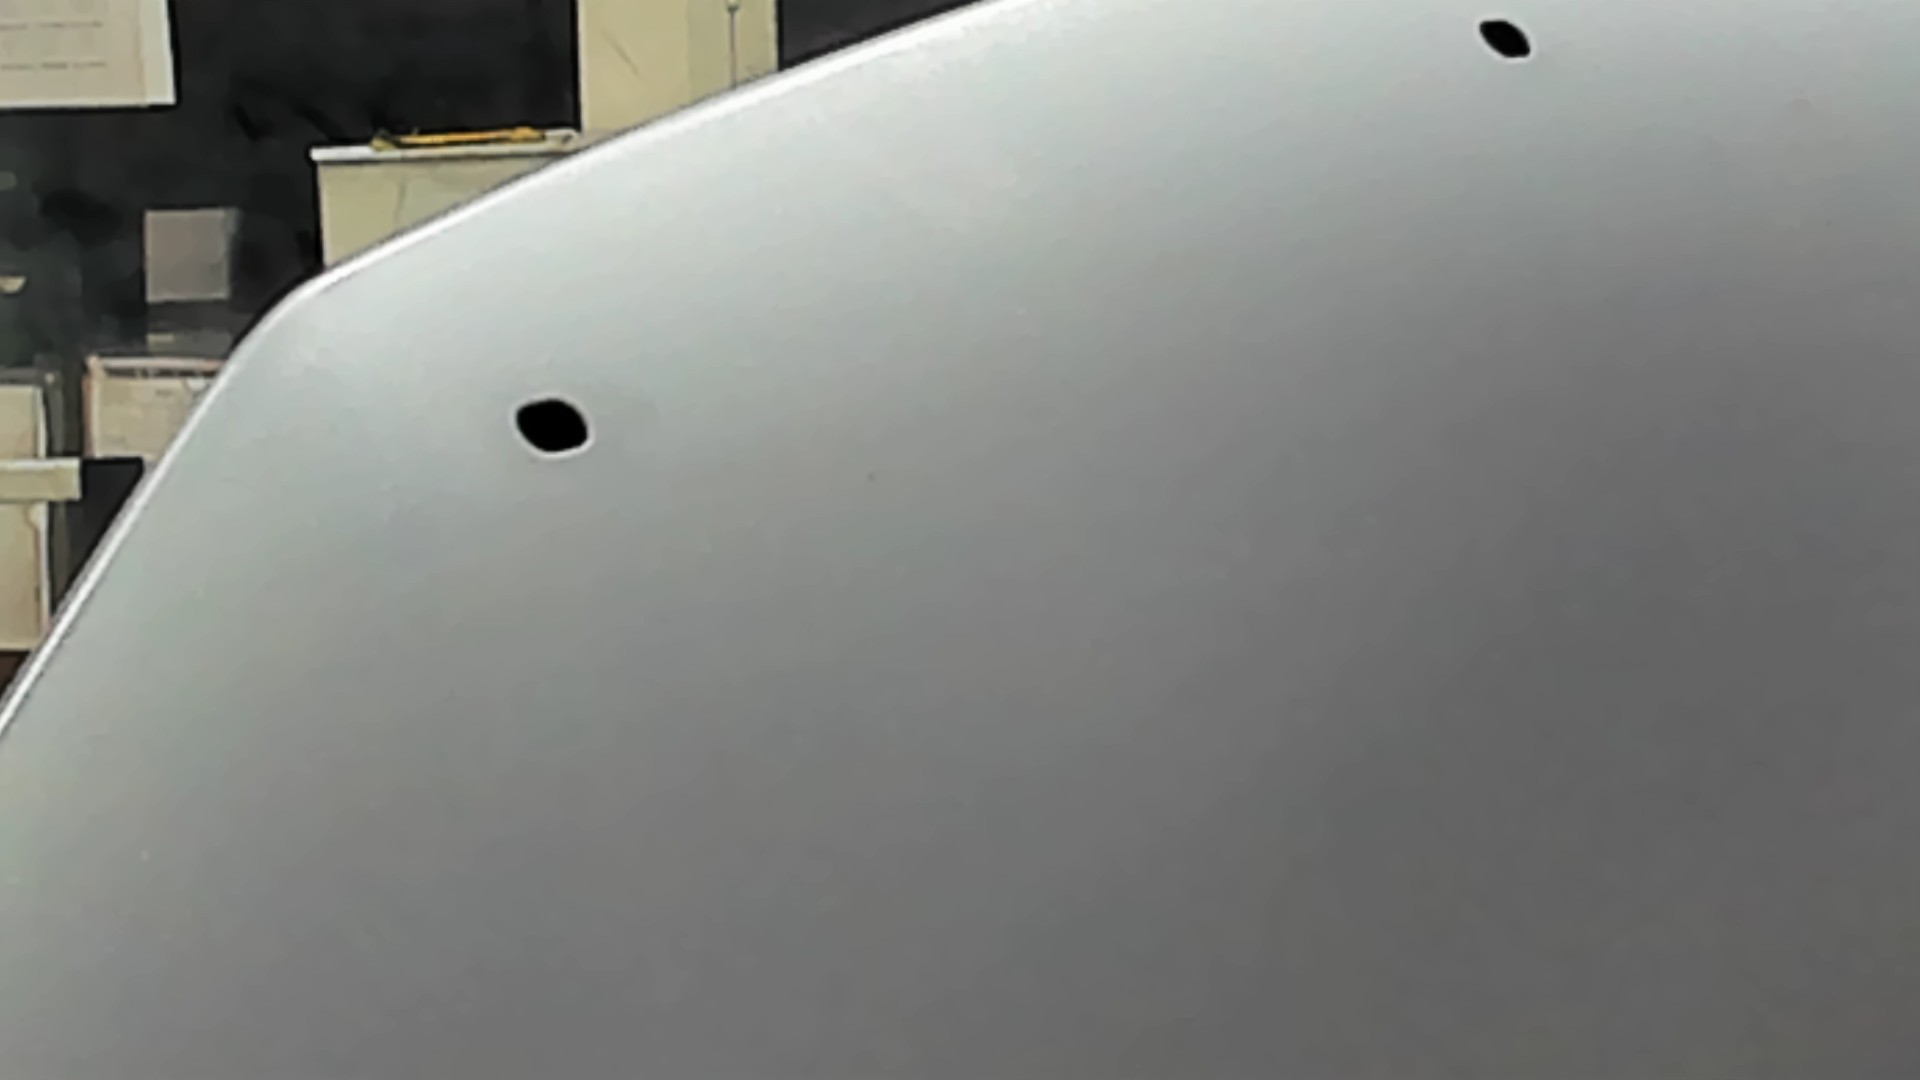Agujero: (512, 397, 592, 455), (1476, 15, 1536, 61)
